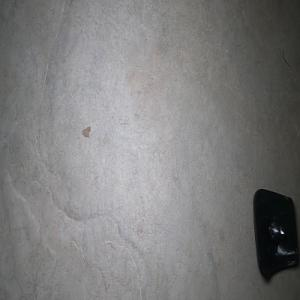LuggagePart: (251, 187, 298, 280)
